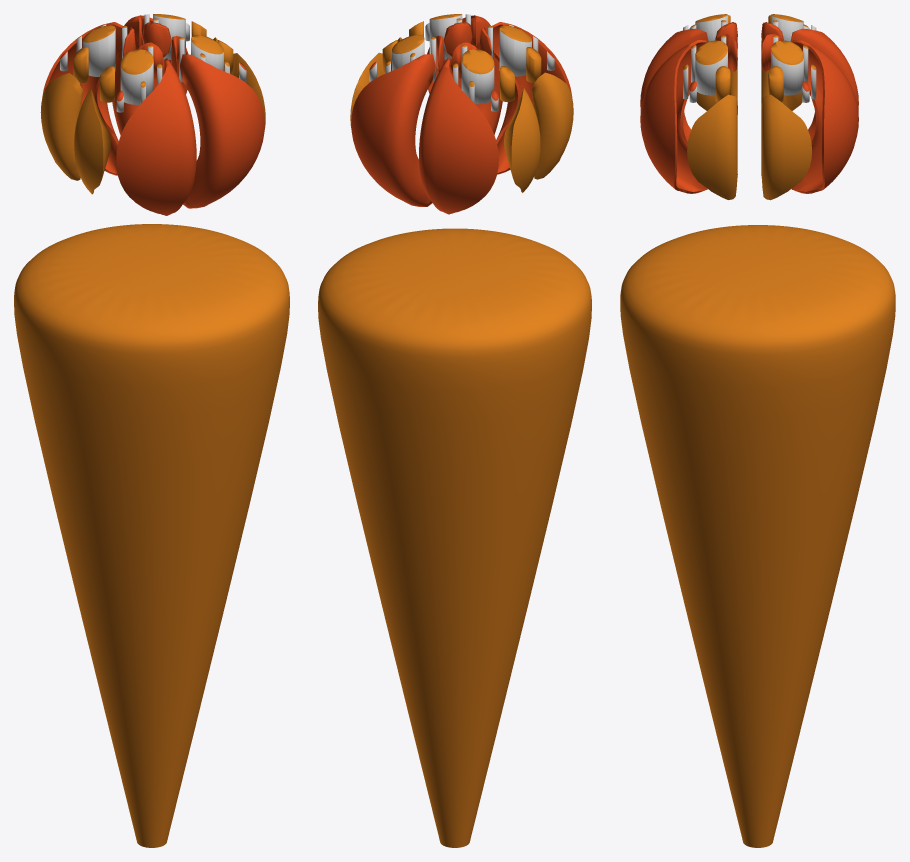
The model's file is Sunbeamwip.obj.
The picture shows the model from 3 angles, left to right: view 1: azimuth 30°, elevation 25°; view 2: azimuth 150°, elevation 25°; view 3: azimuth 270°, elevation 25°; orthographic projection.
Parts seen in each view (by area): view 1: Player_, Sphere.003, Sphere.007, Sphere.002, Sphere.006, Sphere.008; view 2: Player_, Sphere.003, Sphere.007, Sphere.002, Sphere.006, Sphere.008; view 3: Player_, Sphere.003, Sphere.007, Sphere.002, Sphere.006, Sphere.008.
Boxes of the visible parts, left/top/right/bottom form: Player_: left=14, top=224, right=289, bottom=847; Sphere.003: left=42, top=15, right=264, bottom=215; Sphere.007: left=40, top=37, right=265, bottom=194; Sphere.002: left=82, top=14, right=223, bottom=104; Sphere.006: left=123, top=22, right=180, bottom=79; Sphere.008: left=73, top=21, right=233, bottom=102; Player_: left=318, top=228, right=591, bottom=847; Sphere.003: left=351, top=15, right=572, bottom=214; Sphere.007: left=350, top=37, right=573, bottom=192; Sphere.002: left=392, top=14, right=531, bottom=104; Sphere.006: left=435, top=22, right=491, bottom=78; Sphere.008: left=382, top=21, right=541, bottom=101; Player_: left=620, top=225, right=895, bottom=847; Sphere.003: left=640, top=28, right=858, bottom=193; Sphere.007: left=687, top=41, right=811, bottom=200; Sphere.002: left=695, top=14, right=803, bottom=95; Sphere.006: left=715, top=22, right=783, bottom=71; Sphere.008: left=715, top=15, right=783, bottom=102.
Bounding box in the file's own units: 0.7452 × 2.42 × 0.7452.
